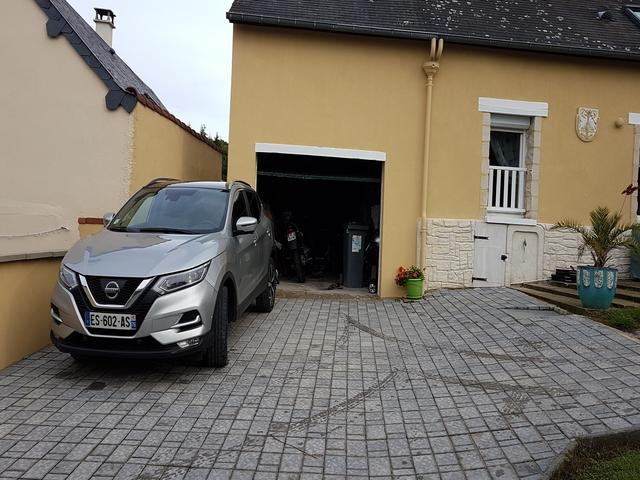Quashquai: (74, 306, 145, 335)
